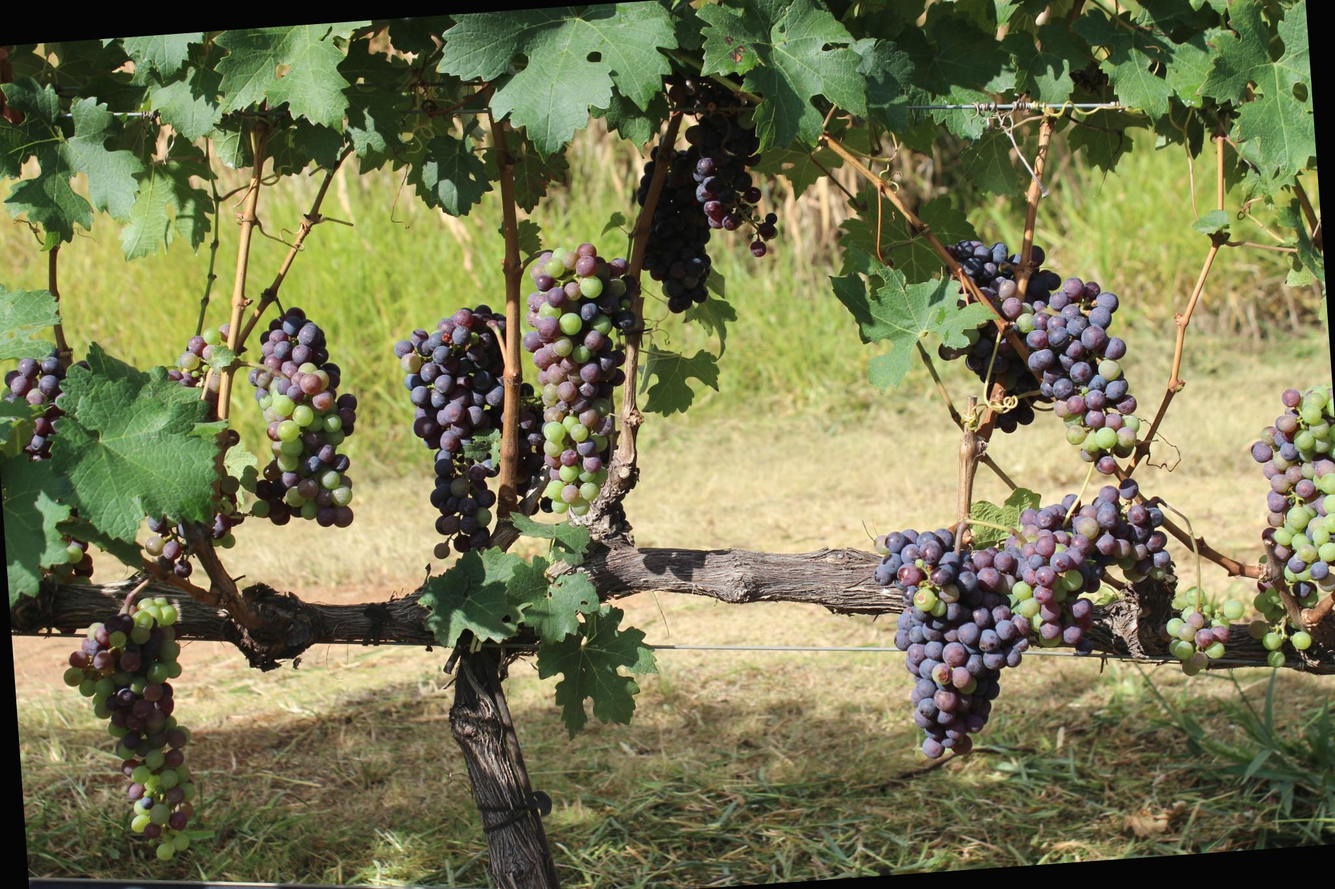Grape Ripe: (623, 130, 725, 310)
Grape Unripe: (58, 597, 198, 868), (1242, 384, 1335, 615), (1167, 583, 1235, 668)
